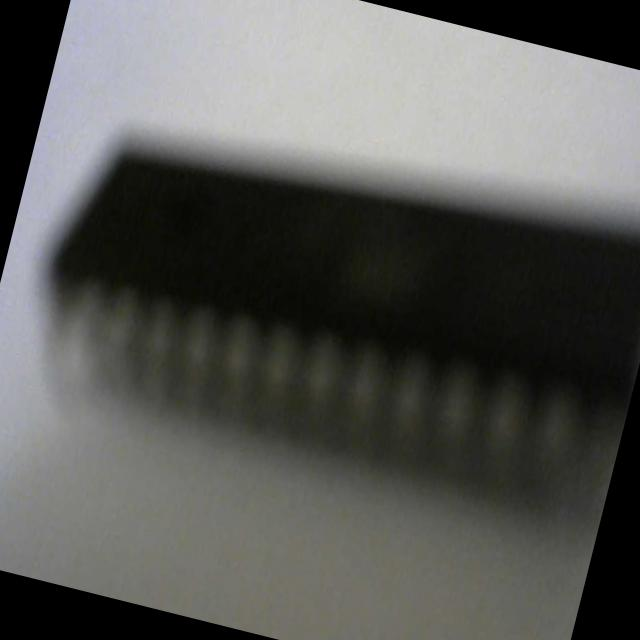atmega: (10, 75, 640, 547)
